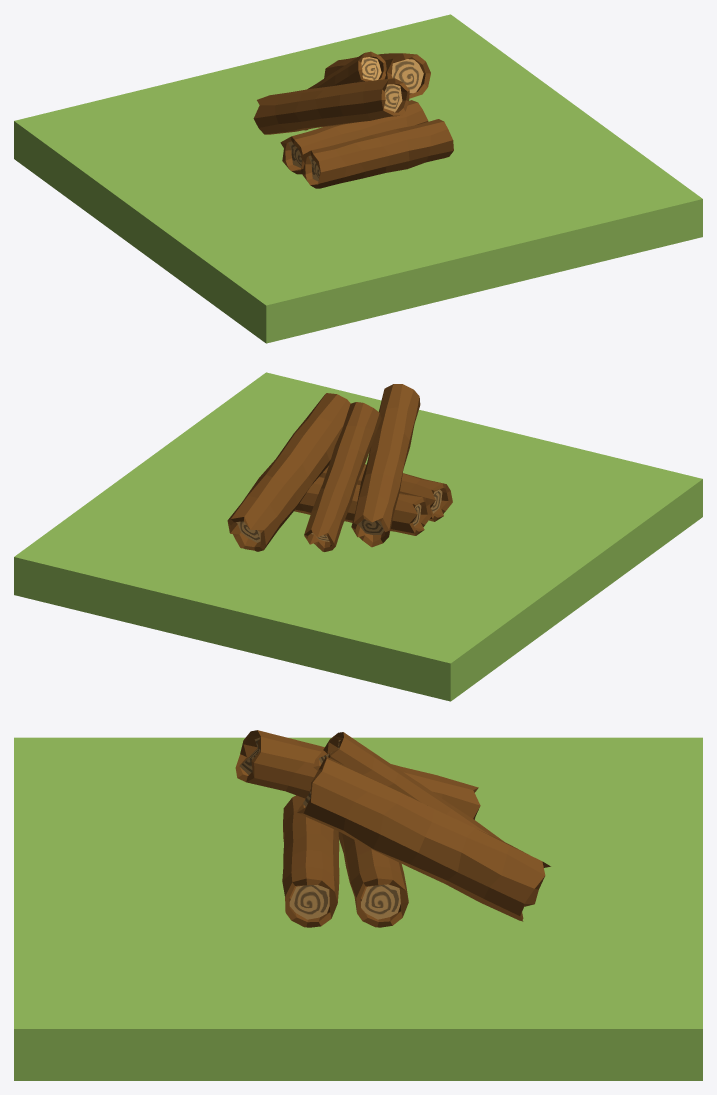
File: LogWood2.fbx
The picture shows the model from 3 angles, top to bottom: view 1: azimuth 30°, elevation 25°; view 2: azimuth 150°, elevation 25°; view 3: azimuth 270°, elevation 25°; orthographic projection. The views are drawn at different scales.
Parts seen in each view (by area): view 1: Cylinder.004; view 2: Cylinder.004; view 3: Cylinder.004.
Part boxes in pixels (<box>): Cylinder.004: <box>14,14,702,343</box>; Cylinder.004: <box>14,372,702,701</box>; Cylinder.004: <box>14,730,702,1080</box>.
Bounding box in the file's own units: 300 × 97.82 × 300.
Materials: 3 (1 with a texture image).
